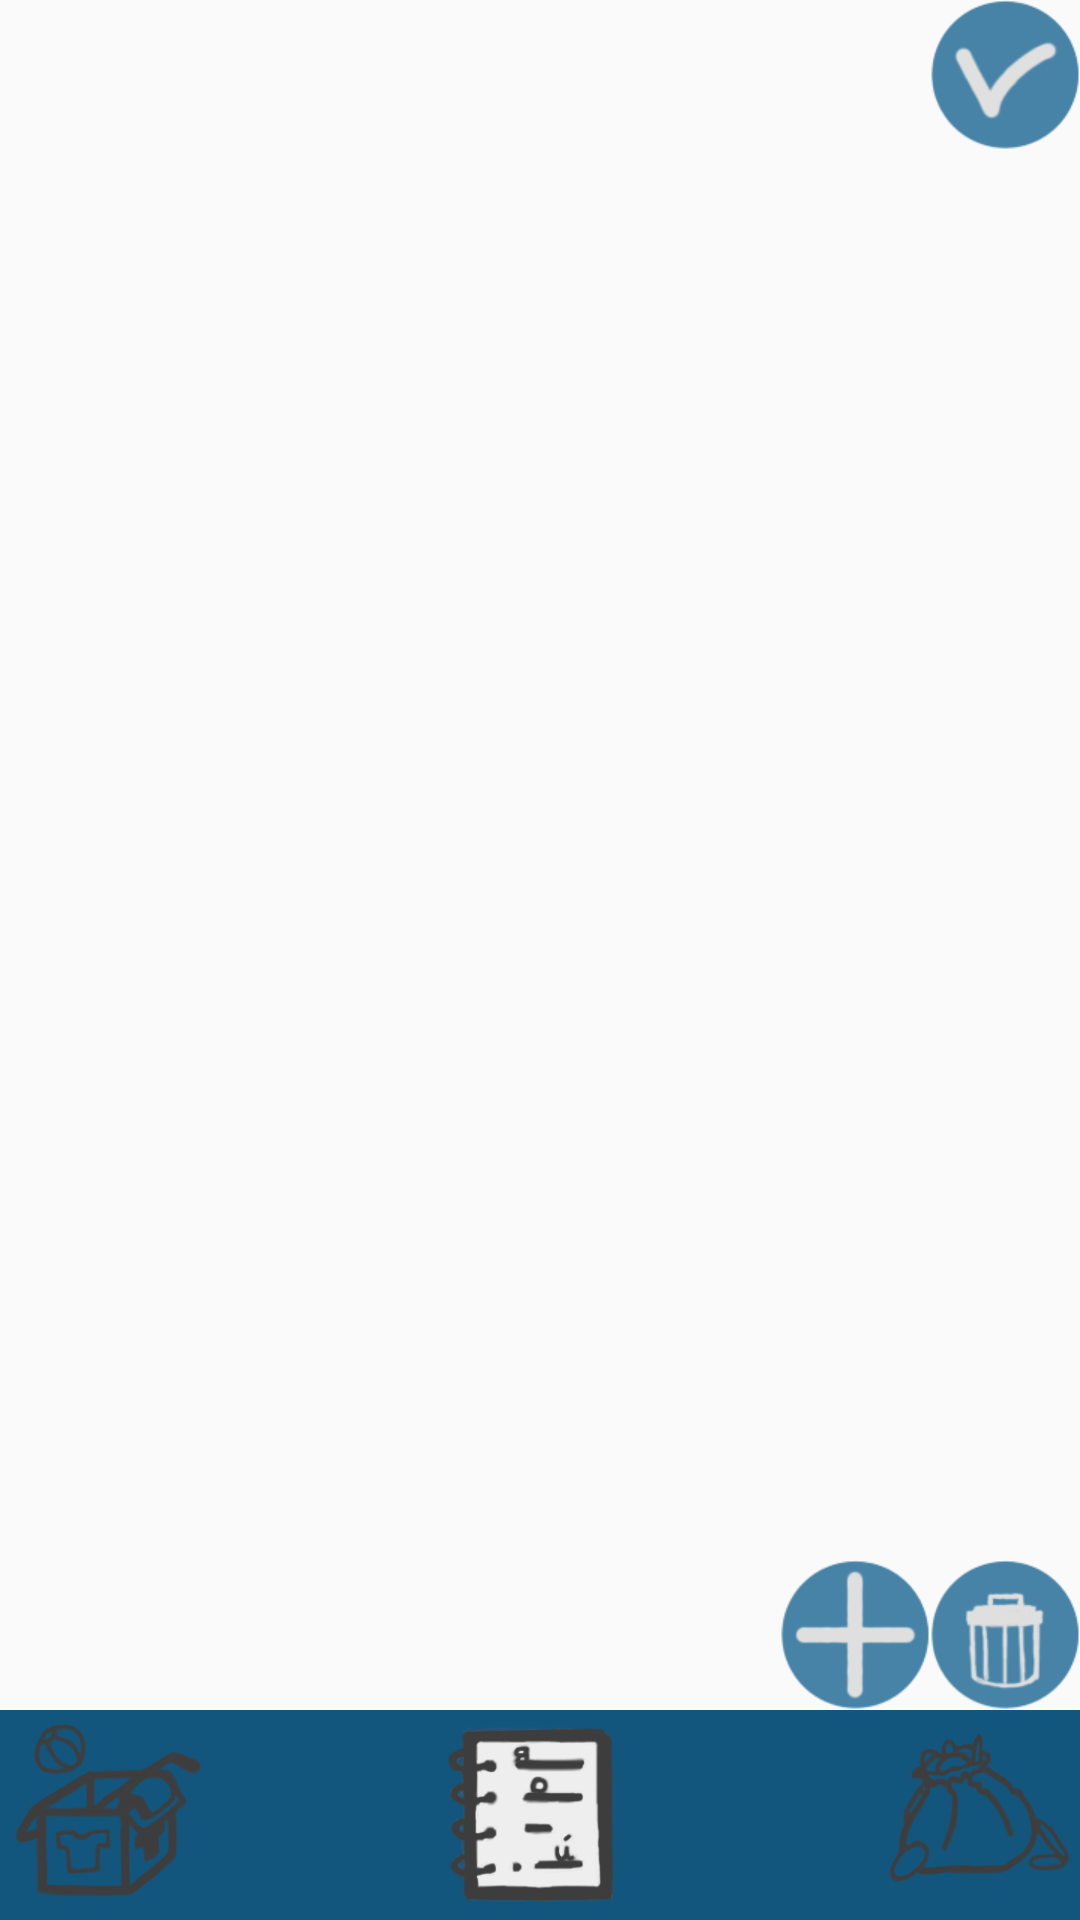

Named icons in this screenshot (1080*1920) and their centers, [x,y]:
galochka: [1005,75]
musorka: [1005,1635]
plyus spok: [855,1635]
